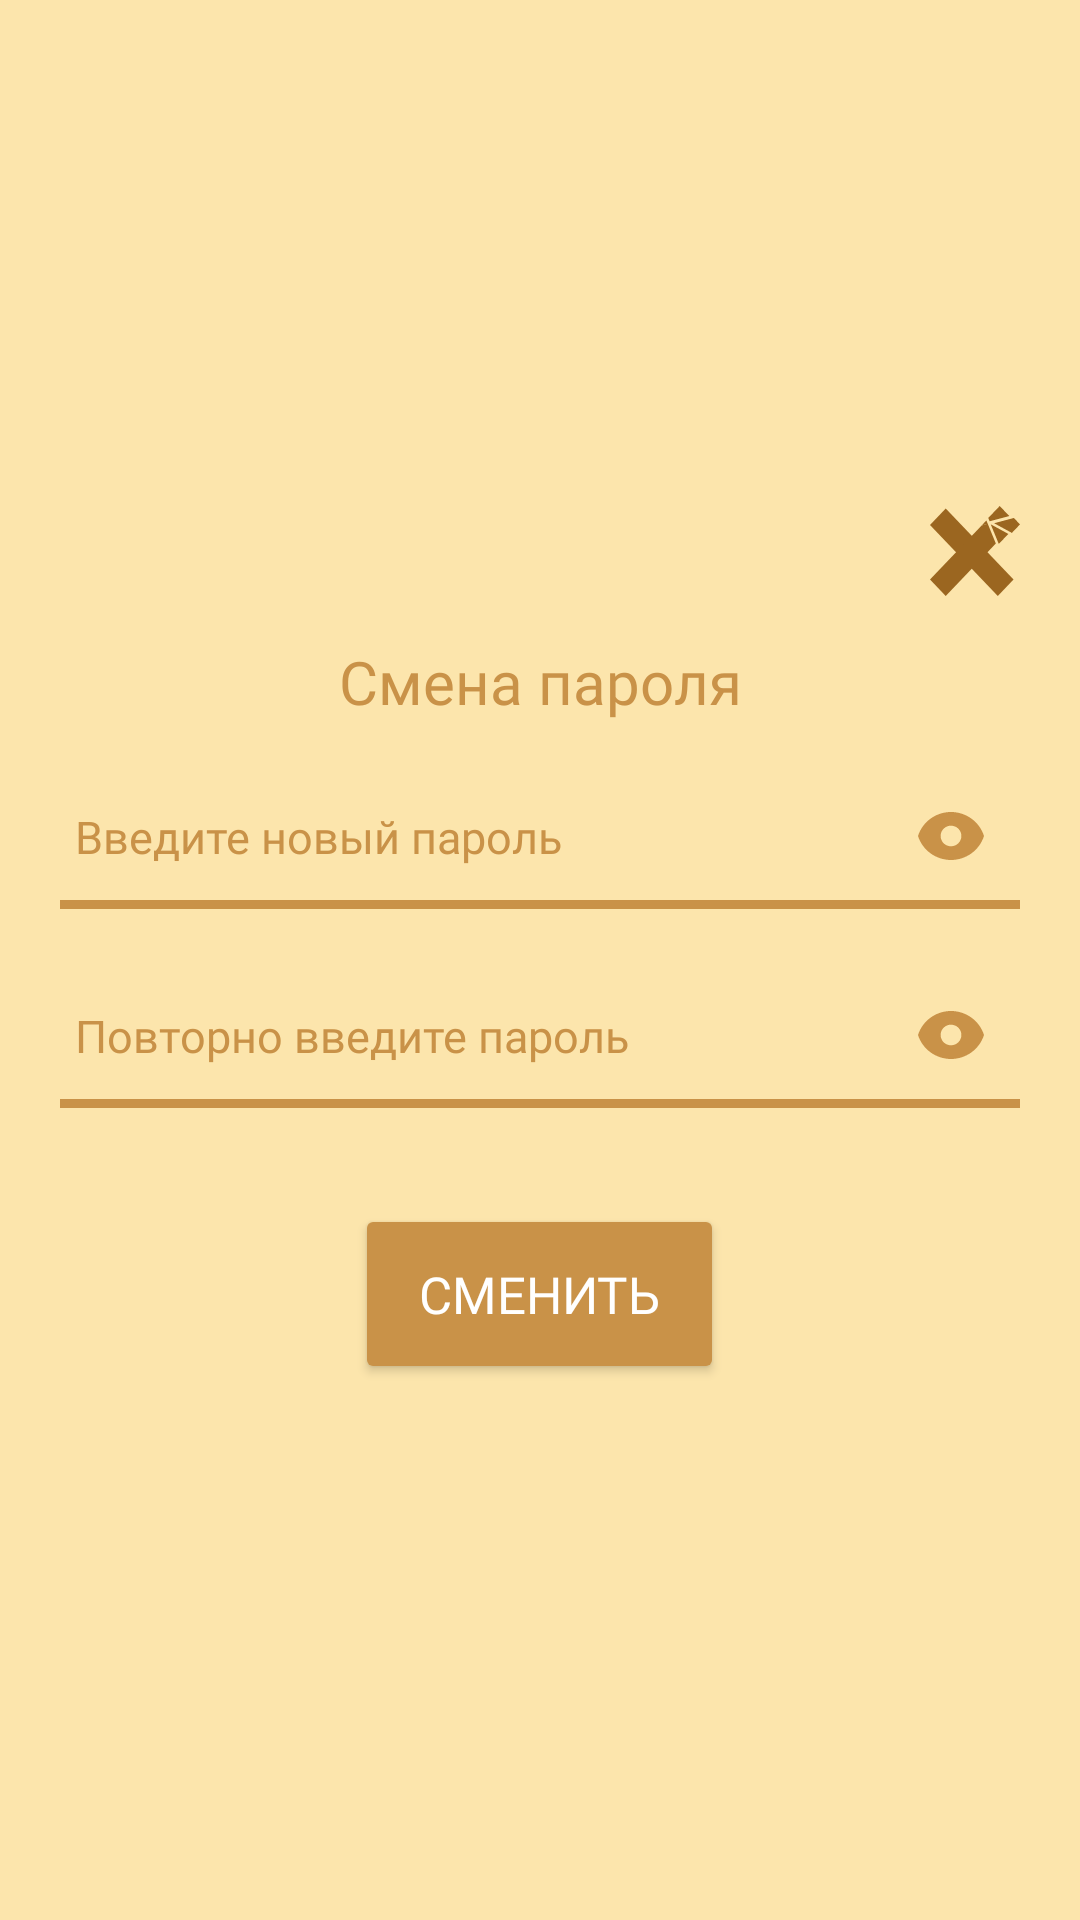

Icon bounding boxes for this 1080px x 1920px phone screenshot, format region(x1, y1, x2, y2):
close: region(930, 506, 1020, 596)
